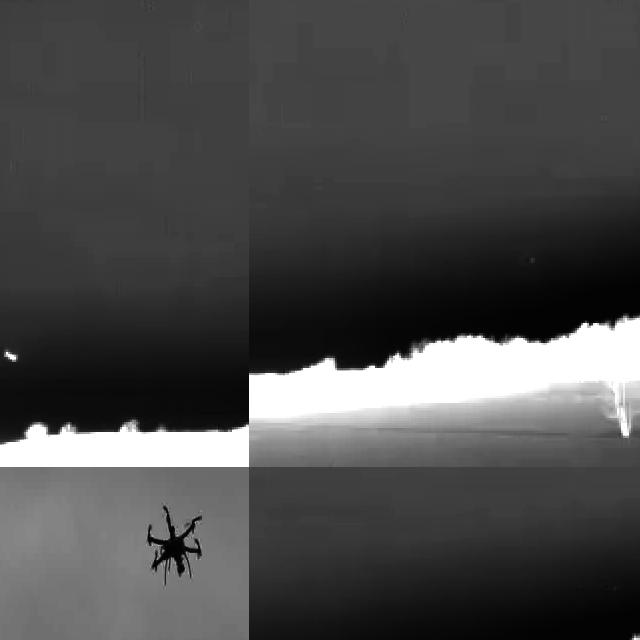0: (513, 245, 551, 283), (592, 578, 628, 606)
1: (0, 340, 31, 378)
drone: (138, 497, 207, 586)
